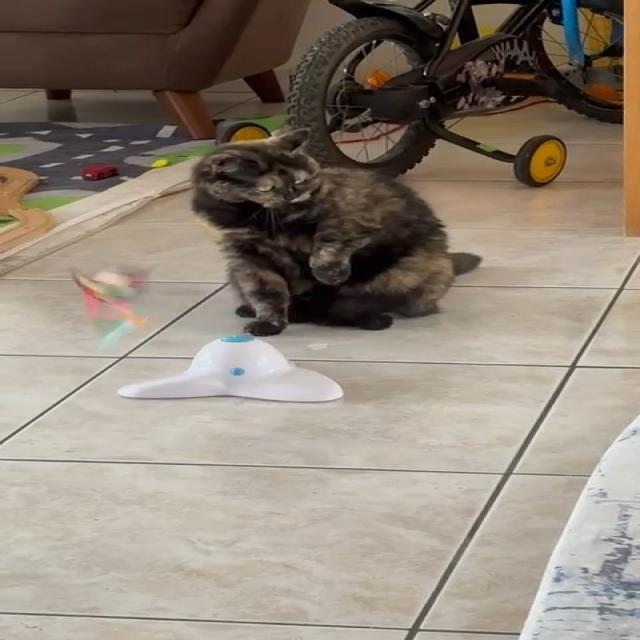authorized: (188, 127, 464, 336)
